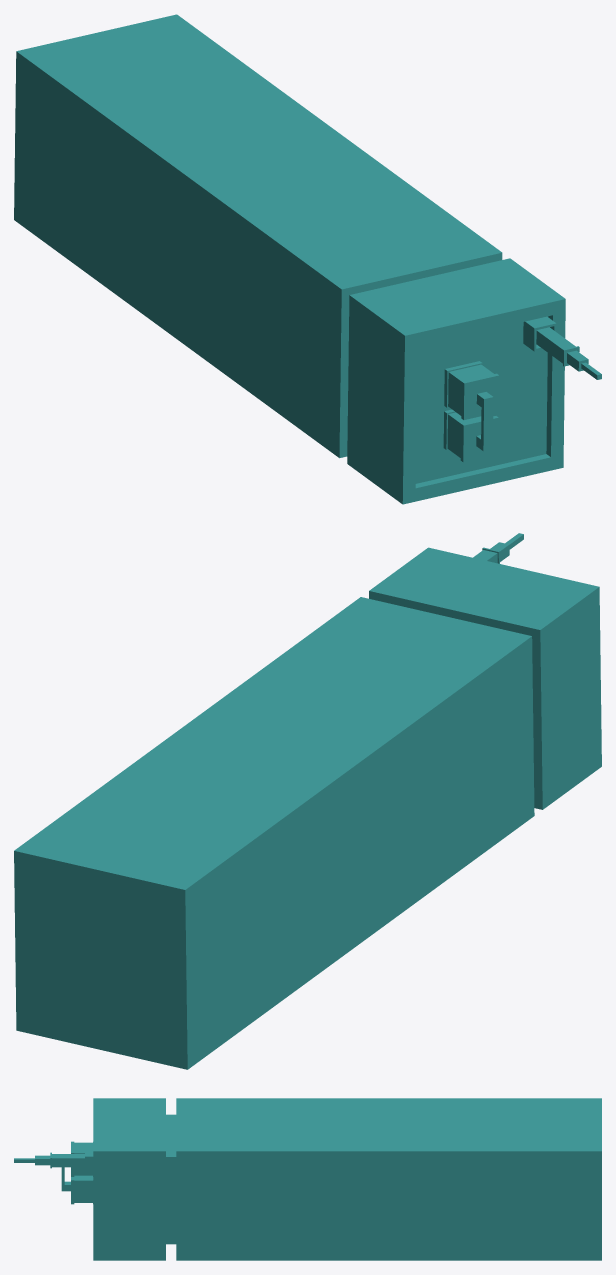
File: building_01.obj
3 views of the same model, one above another, from view 1: azimuth 30°, elevation 25°; view 2: azimuth 150°, elevation 25°; view 3: azimuth 270°, elevation 25° (orthographic). The views are drawn at different scales.
Parts seen in each view (by area): view 1: Highrise_11; view 2: Highrise_11; view 3: Highrise_11.
Boxes of the visible parts, bbox=[...] form: Highrise_11: bbox=[14, 14, 601, 504]; Highrise_11: bbox=[14, 533, 601, 1069]; Highrise_11: bbox=[14, 1098, 601, 1260].
Size of the model in its own units: 1.5 by 1.5 by 7.18.
